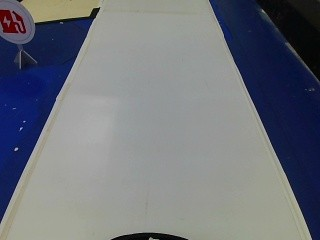battery: (0, 0, 33, 47)
